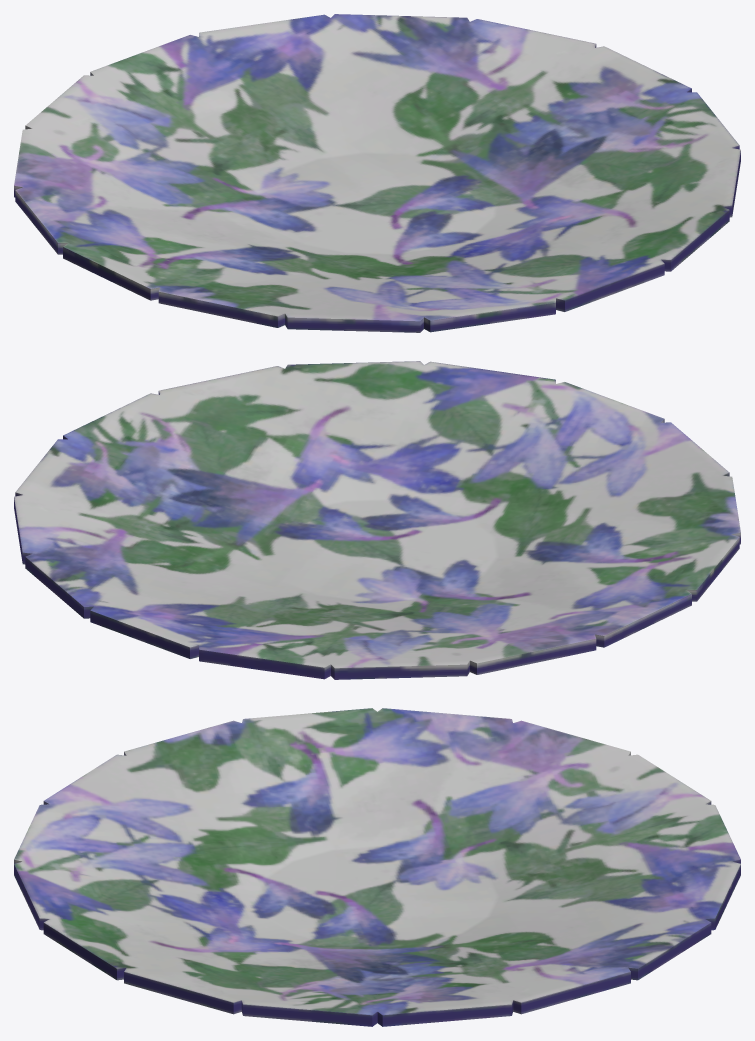
The model's file is SM_Teaset_Plate.glb.
3 views of the same model, one above another, from view 1: azimuth 30°, elevation 25°; view 2: azimuth 150°, elevation 25°; view 3: azimuth 270°, elevation 25° (orthographic).
Visible parts, largest first — view 1: SM_Teaset_Plate; view 2: SM_Teaset_Plate; view 3: SM_Teaset_Plate.
Boxes of the visible parts, x1,y1,x2,y2 form: SM_Teaset_Plate: [14, 14, 740, 332]; SM_Teaset_Plate: [14, 361, 740, 679]; SM_Teaset_Plate: [14, 708, 740, 1026].
Size of the model in its own units: 0.1596 by 0.0115 by 0.1596.
1 material, 1 textured.
